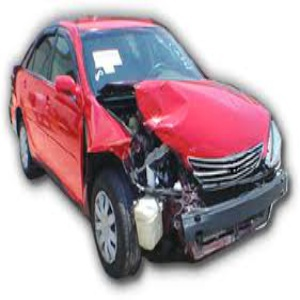bonnet: (124, 76, 221, 149)
